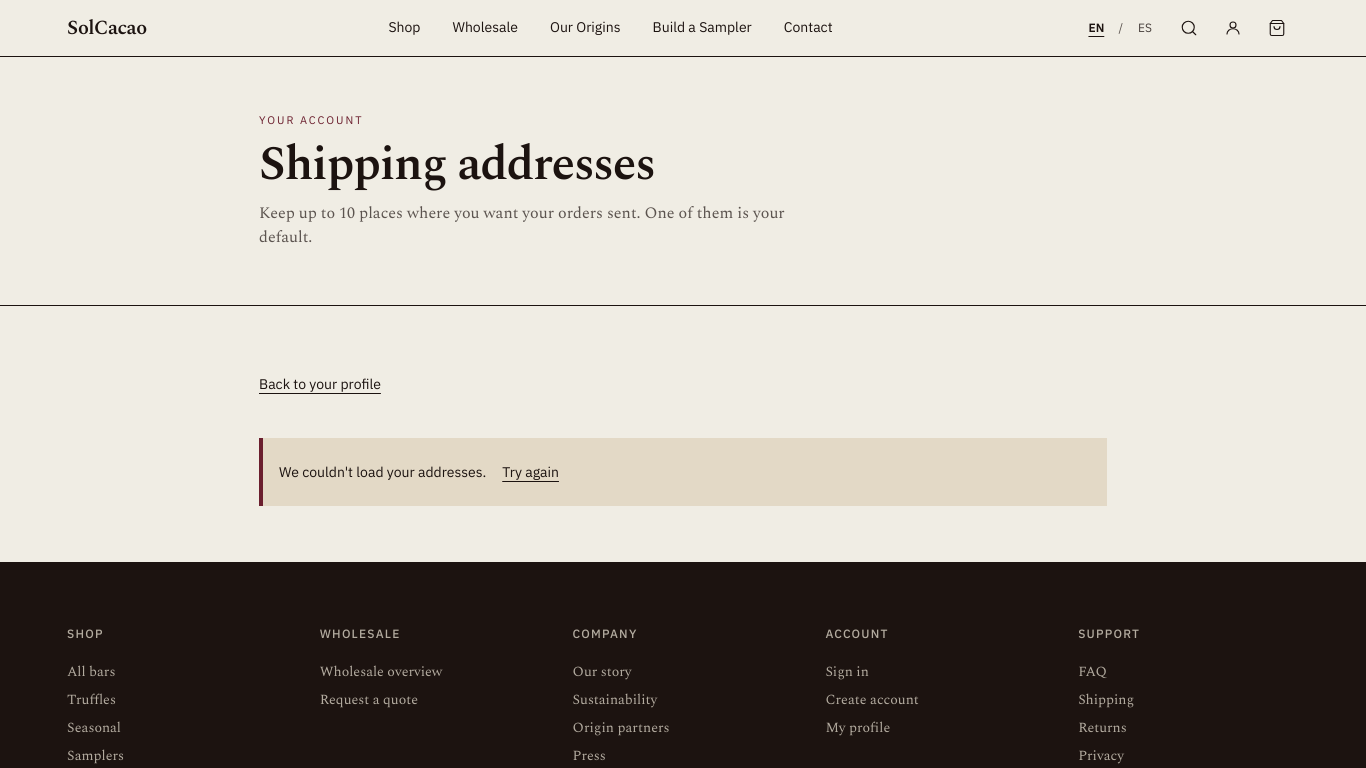
the addresses page › says that the addresses could not be loaded, and loads them again on request
Check: the message shows "We couldn't load your addresses.", box [279,462,486,480]
Click the button "Try again" at (531, 472), box [502,450,559,494]
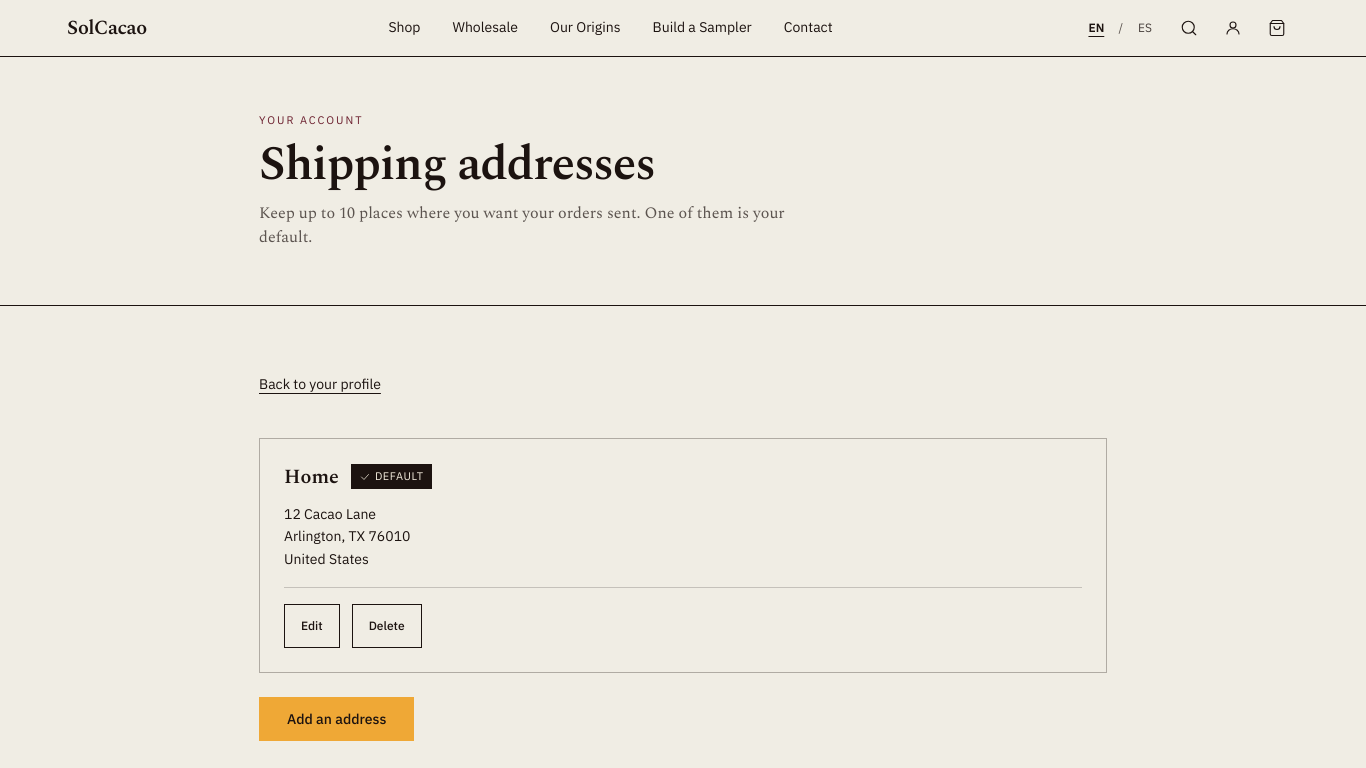
Check: the heading "Home" is shown, box [284,462,339,490]
Check: the message "We couldn't load your addresses. Try again" is gone
